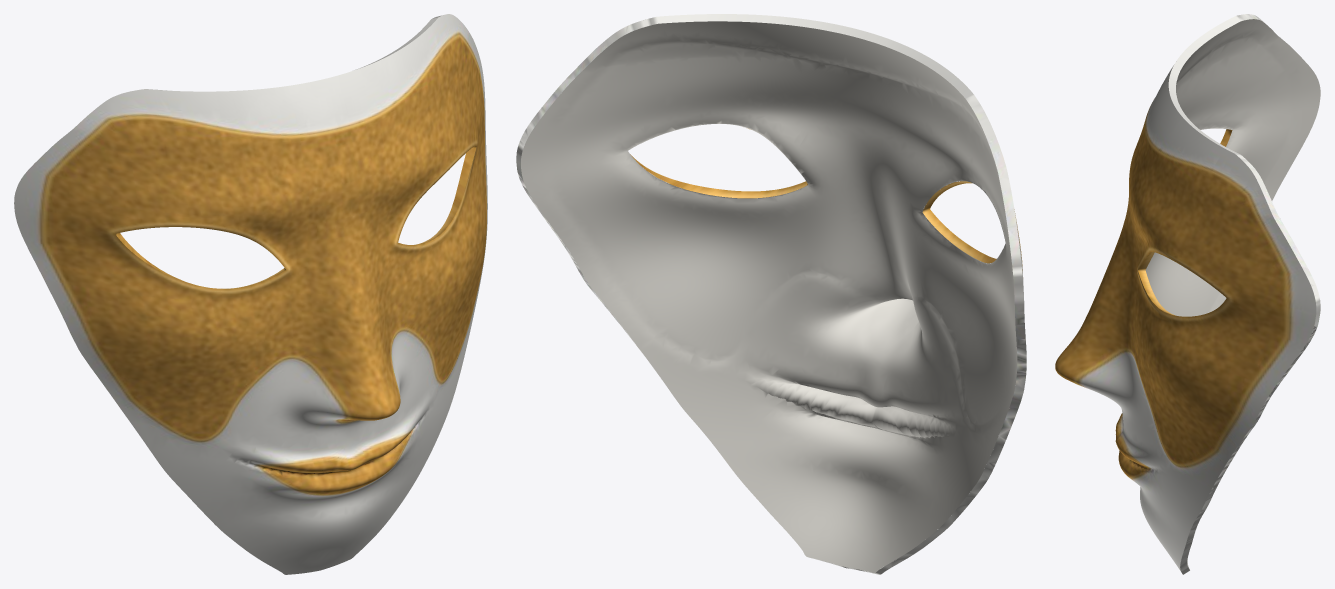
File: mask_don.glb
3 views of the same model, side by side, from view 1: azimuth 30°, elevation 25°; view 2: azimuth 150°, elevation 25°; view 3: azimuth 270°, elevation 25° (orthographic). The views are drawn at different scales.
Parts seen in each view (by area): view 1: Mask_Baroque_Gold; view 2: Mask_Baroque_Gold; view 3: Mask_Baroque_Gold.
Part boxes in pixels (<box>): Mask_Baroque_Gold: <box>14,14,487,574</box>; Mask_Baroque_Gold: <box>516,14,1026,574</box>; Mask_Baroque_Gold: <box>1055,14,1320,574</box>.
Size of the model in its own units: 0.161 by 0.1624 by 0.0818.
2 materials, 1 textured.
